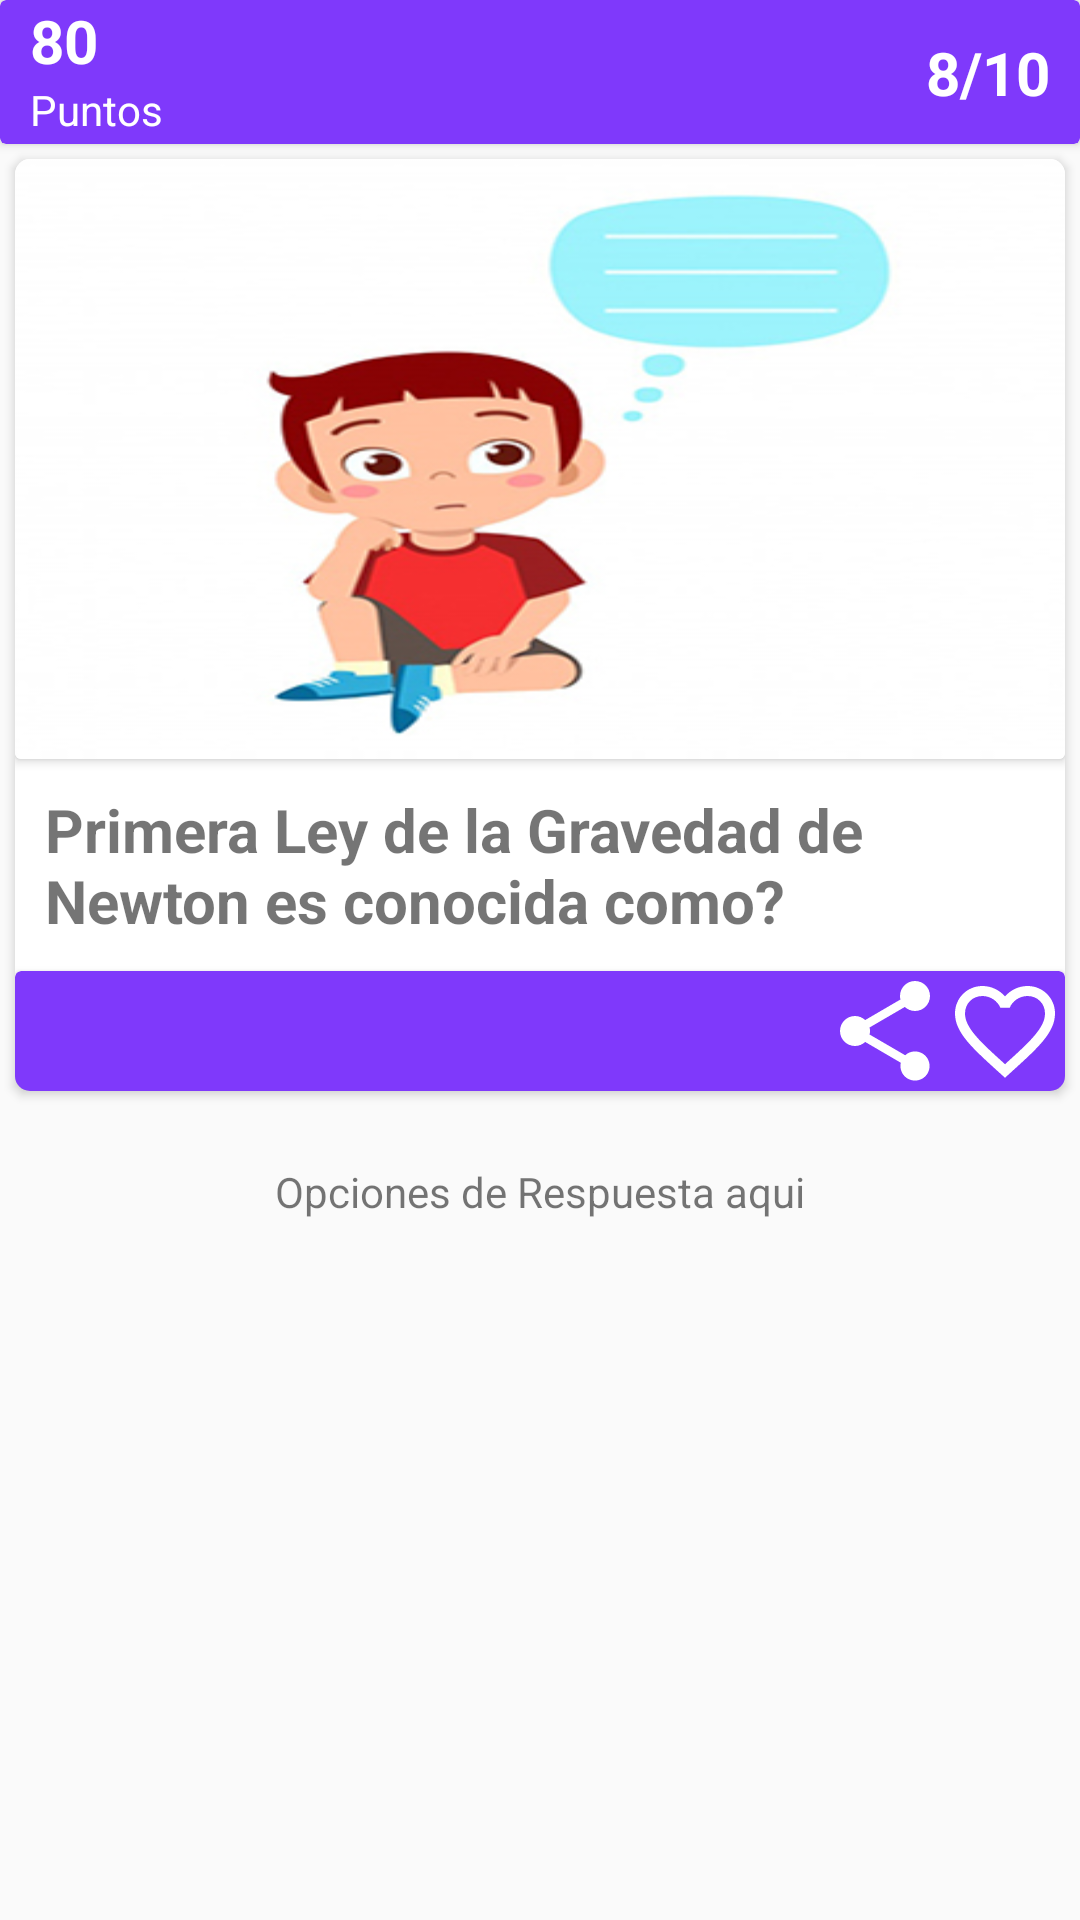

Point at icon controls on the screen. Image size 1080 x 1920, points as (x,y).
favorite: (1005,1031)
share: (885,1031)
